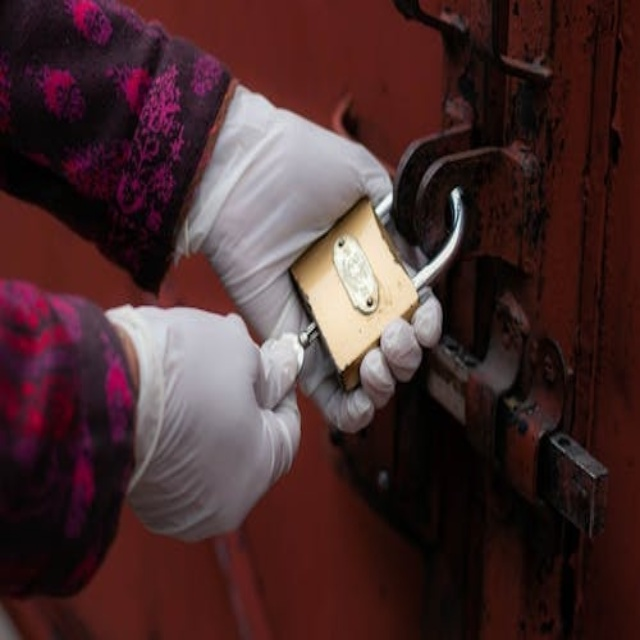Guantes: (165, 48, 445, 436), (96, 286, 306, 563)
